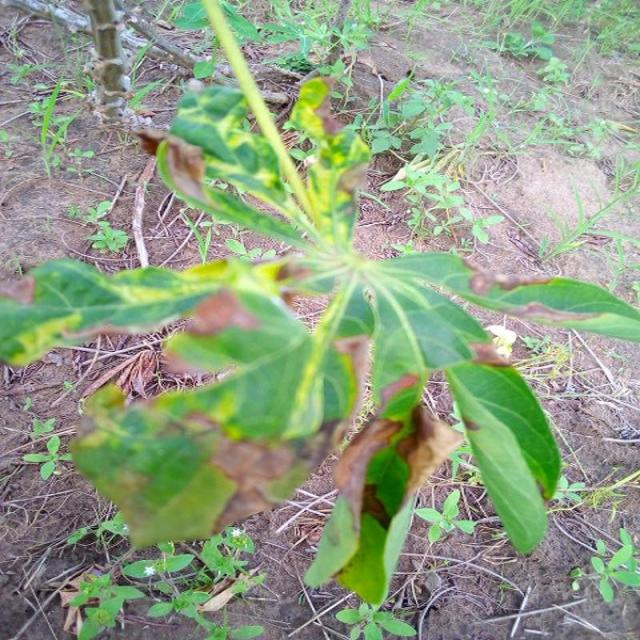cassava leaf: (1, 70, 638, 608), (443, 357, 561, 554)
